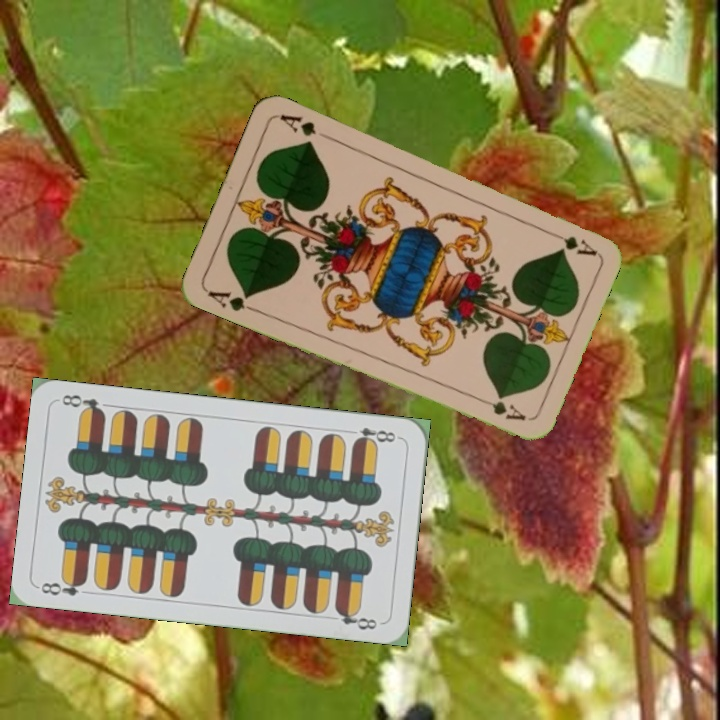E8: (344, 423, 403, 448), (37, 574, 89, 599)
GA: (542, 226, 599, 258), (203, 287, 260, 315)
